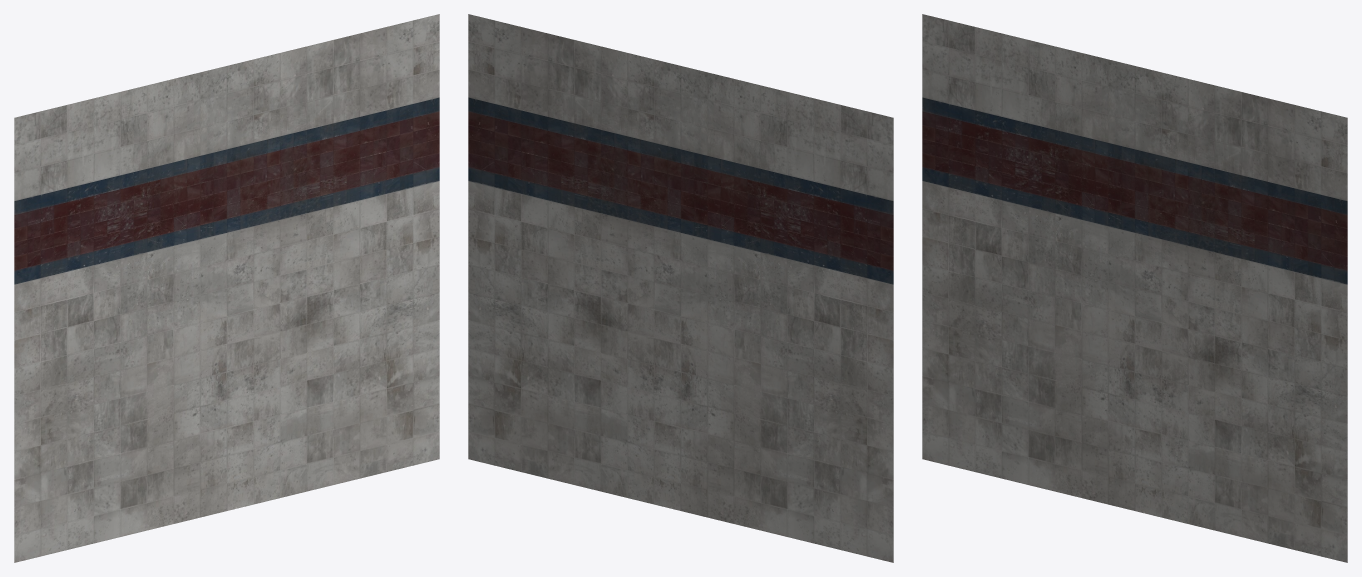
The model's file is SM_Wall_200u.glb.
3 renders of one model, left to right at view 1: azimuth 30°, elevation 25°; view 2: azimuth 150°, elevation 25°; view 3: azimuth 330°, elevation 25°, orthographic.
Visible parts, largest first — view 1: SM_Wall_200u; view 2: SM_Wall_200u; view 3: SM_Wall_200u.
Boxes of the visible parts, bbox=[...] form: SM_Wall_200u: bbox=[14, 14, 439, 562]; SM_Wall_200u: bbox=[468, 14, 893, 562]; SM_Wall_200u: bbox=[922, 14, 1347, 562].
Size of the model in its own units: 2.6 by 2.6 by 1.59e-16.
Materials: 1 (1 with a texture image).
